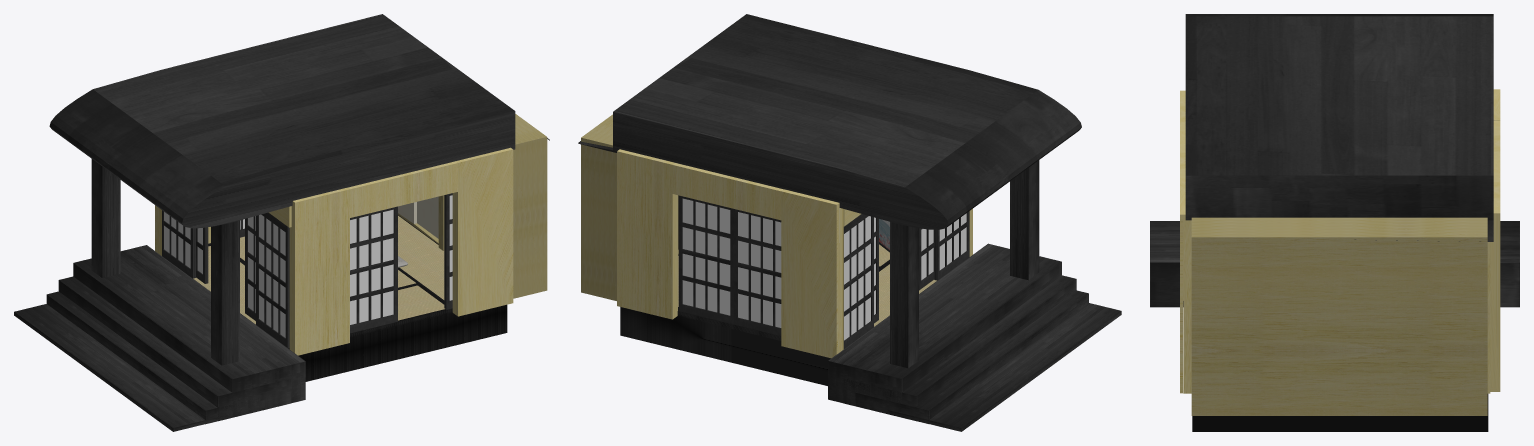
The picture shows the model from 3 angles, left to right: view 1: azimuth 30°, elevation 25°; view 2: azimuth 150°, elevation 25°; view 3: azimuth 270°, elevation 25°; orthographic projection. The views are drawn at different scales.
Visible parts, largest first — view 1: node_Cube.005_12314_19, node_Cube.011_12168_20, node_Cube.002_12364_16, node_Cube_12298_15, node_Cube.001_12040_9, node_Cube.013_12246_22, node_DaScreen.005_12382_61, node_ScreenDoor.005_12374_28, node_ScreenDoor.001_12222_24, node_DaScreen.001_12322_52, node_ScreenDoor_12214_23, node_Cube.009_12230_10 (+5 smaller); view 2: node_Cube.005_12314_19, node_Cube.011_12168_20, node_Cube.003_12290_17, node_Cube_12298_15, node_Cube.001_12040_9, node_DaScreen.007_12148_41, node_DaScreen.006_12282_45, node_ScreenDoor.007_12160_30, node_ScreenDoor.006_12176_29, node_DaScreen_12254_51, node_ScreenDoor_12214_23, node_ScreenDoor.001_12222_24 (+4 smaller); view 3: node_Cube.005_12314_19, node_Cube.001_12040_9, node_Cube_12298_15, node_Cube.011_12168_20, node_Cube.003_12290_17, node_Cube.008_12184_46, node_Cube.002_12364_16, node_Cube.007_12094_35.
Part boxes in pixels (x1,y1,x2,y2): node_Cube.005_12314_19: [49, 14, 549, 228]; node_Cube.011_12168_20: [14, 159, 305, 431]; node_Cube.002_12364_16: [289, 147, 513, 355]; node_Cube_12298_15: [194, 215, 507, 381]; node_Cube.001_12040_9: [398, 114, 547, 298]; node_Cube.013_12246_22: [193, 215, 444, 324]; node_DaScreen.005_12382_61: [350, 209, 393, 324]; node_ScreenDoor.005_12374_28: [350, 206, 397, 333]; node_ScreenDoor.001_12222_24: [256, 212, 289, 347]; node_DaScreen.001_12322_52: [259, 214, 285, 337]; node_ScreenDoor_12214_23: [162, 210, 195, 278]; node_Cube.009_12230_10: [398, 196, 438, 238]; node_Cube.005_12314_19: [578, 14, 1081, 229]; node_Cube.011_12168_20: [828, 160, 1121, 431]; node_Cube.003_12290_17: [617, 149, 843, 358]; node_Cube_12298_15: [620, 255, 930, 385]; node_Cube.001_12040_9: [581, 114, 678, 300]; node_DaScreen.007_12148_41: [682, 198, 730, 315]; node_DaScreen.006_12282_45: [738, 212, 781, 327]; node_ScreenDoor.007_12160_30: [678, 195, 733, 324]; node_ScreenDoor.006_12176_29: [734, 209, 781, 335]; node_DaScreen_12254_51: [844, 216, 870, 340]; node_ScreenDoor_12214_23: [843, 214, 873, 348]; node_ScreenDoor.001_12222_24: [934, 211, 969, 280]; node_Cube.005_12314_19: [1185, 14, 1493, 241]; node_Cube.001_12040_9: [1191, 217, 1487, 415]; node_Cube_12298_15: [1192, 394, 1488, 431]; node_Cube.011_12168_20: [1150, 221, 1519, 307]; node_Cube.003_12290_17: [1490, 89, 1500, 391]; node_Cube.008_12184_46: [1183, 215, 1191, 393]; node_Cube.002_12364_16: [1180, 90, 1185, 393]; node_Cube.007_12094_35: [1487, 242, 1490, 393].
Bounding box in the file's own units: 21.34 × 11.6 × 15.
27 materials, 24 textured.
